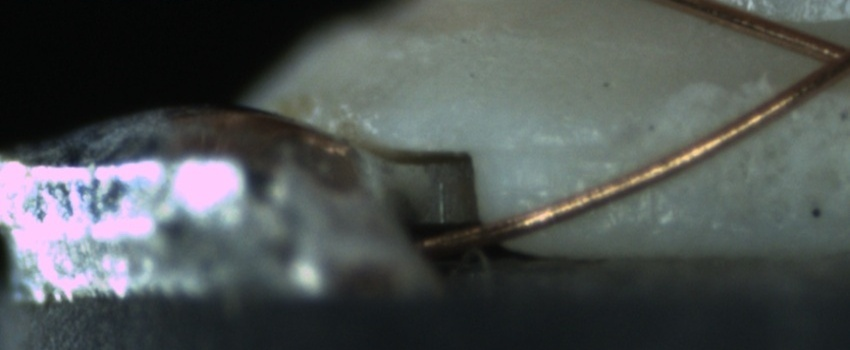CL: (795, 29, 850, 89)
DL: (498, 113, 632, 179)
